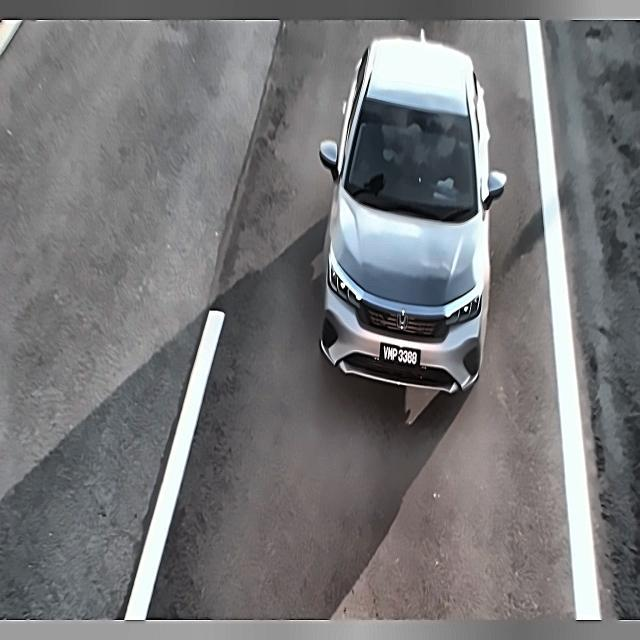car: (375, 339, 424, 377)
